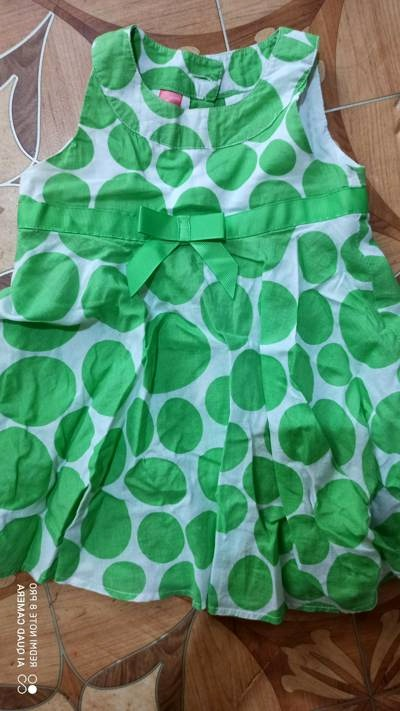Dress: (1, 16, 395, 635)
